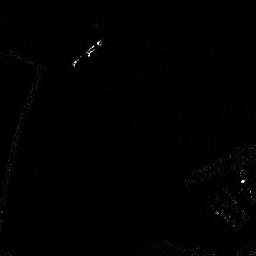ship: (72, 36, 102, 66)
